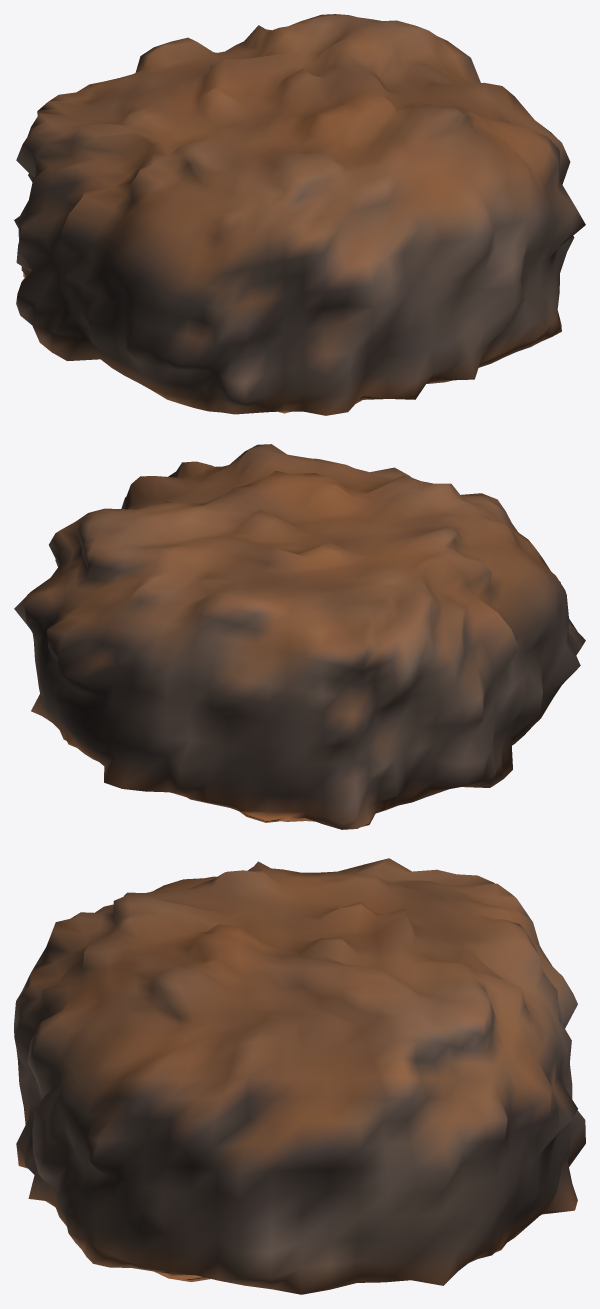
The model's file is barnacle-bill.glb.
3 views of the same model, one above another, from view 1: azimuth 30°, elevation 25°; view 2: azimuth 150°, elevation 25°; view 3: azimuth 270°, elevation 25° (orthographic). The views are drawn at different scales.
Visible parts, largest first — view 1: cover-barnacle-bill; view 2: cover-barnacle-bill; view 3: cover-barnacle-bill.
Boxes of the visible parts, bbox=[...] form: cover-barnacle-bill: bbox=[14, 14, 585, 415]; cover-barnacle-bill: bbox=[14, 444, 585, 829]; cover-barnacle-bill: bbox=[14, 858, 585, 1294].
Bounding box in the file's own units: 0.2727 × 0.12 × 0.2561.
